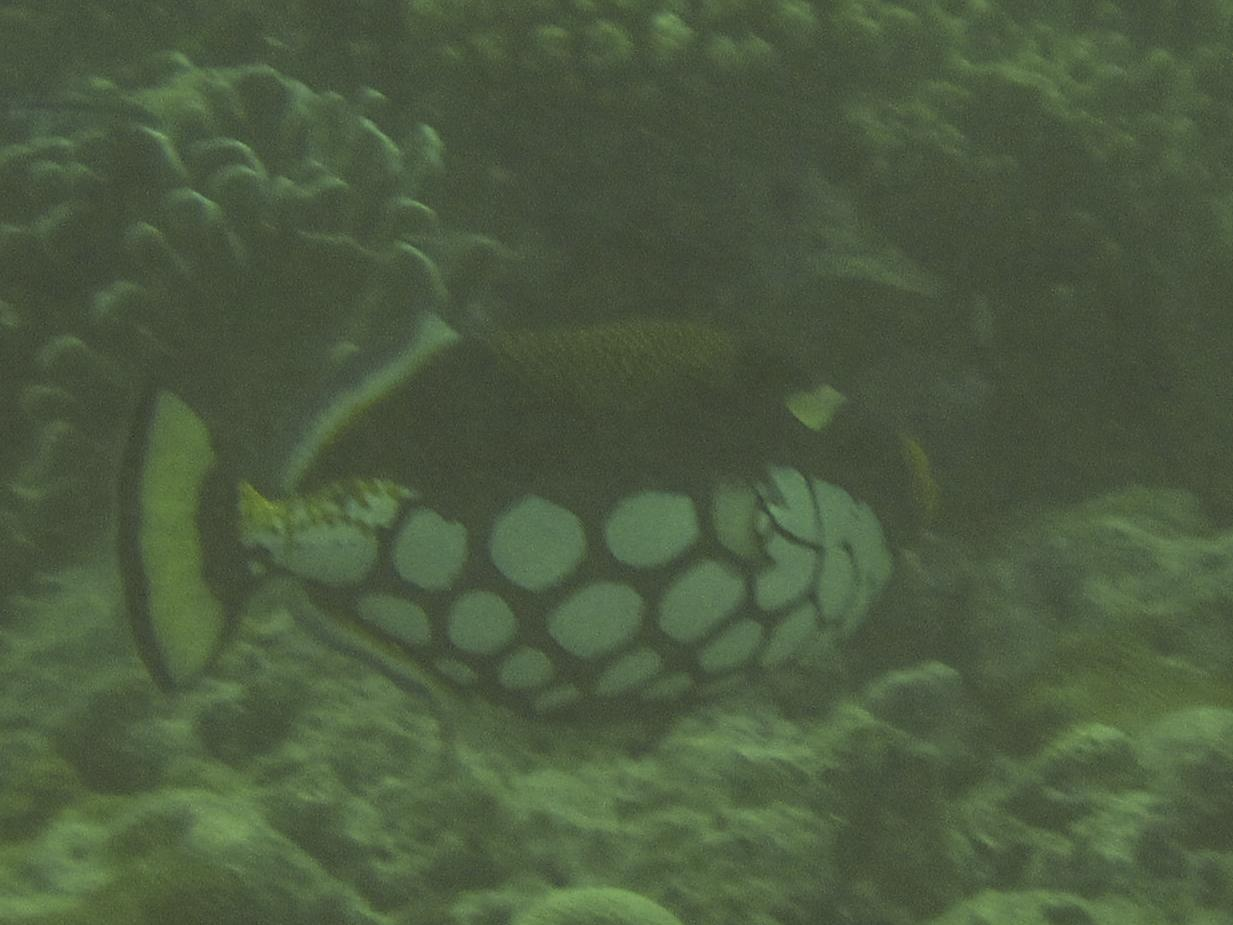Fish: (49, 259, 1120, 766)
